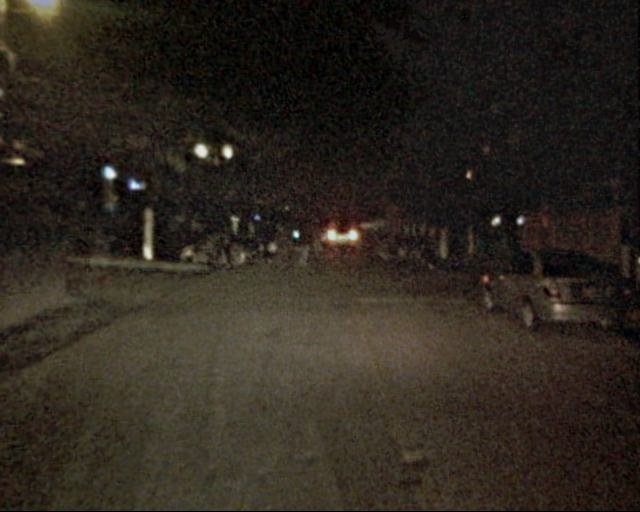person: (218, 222, 240, 277), (296, 224, 316, 273), (273, 222, 294, 268), (253, 221, 274, 265)
